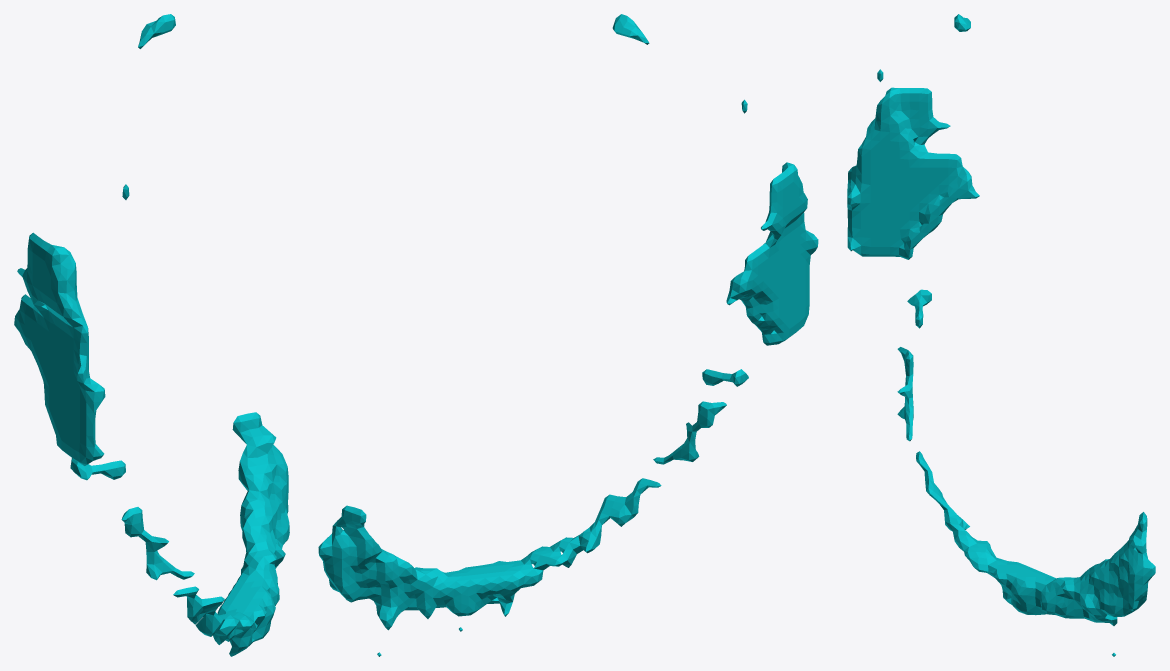
Rendered from aseg_063_Right-choroid-plexus.glb.
The picture shows the model from 3 angles, left to right: view 1: azimuth 30°, elevation 25°; view 2: azimuth 150°, elevation 25°; view 3: azimuth 270°, elevation 25°; orthographic projection. The views are drawn at different scales.
Size of the model in its own units: 37 by 64.55 by 31.7.
